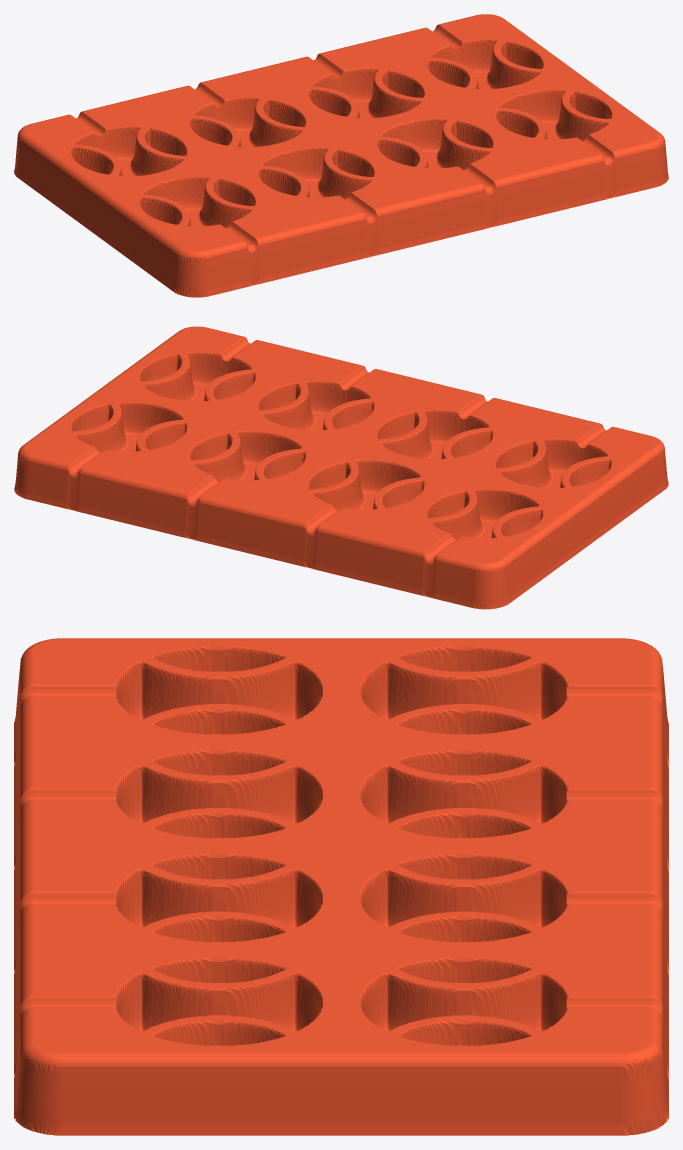
The model's file is mold.glb.
3 views of the same model, one above another, from view 1: azimuth 30°, elevation 25°; view 2: azimuth 150°, elevation 25°; view 3: azimuth 270°, elevation 25° (orthographic). The views are drawn at different scales.
Parts seen in each view (by area): view 1: geometry_0; view 2: geometry_0; view 3: geometry_0.
Part boxes in pixels (bbox=[...]): geometry_0: bbox=[14, 14, 668, 297]; geometry_0: bbox=[14, 326, 668, 609]; geometry_0: bbox=[14, 638, 668, 1135].
Size of the model in its own units: 0.1907 by 0.0155 by 0.1229.
